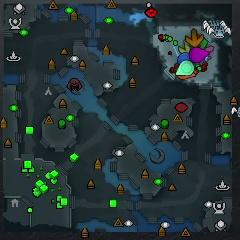p1: (177, 52, 191, 65)
p2: (176, 60, 194, 76)
p3: (189, 47, 210, 63)
p5: (178, 72, 196, 81)
x1: (204, 45, 215, 53)
x2: (178, 40, 191, 54)
x4: (200, 38, 208, 49)
x5: (185, 28, 204, 48)
